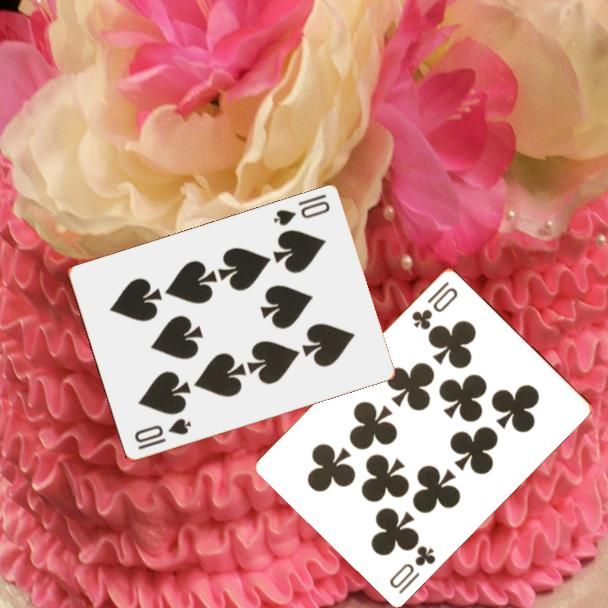c10: (386, 541, 439, 597), (408, 277, 461, 332)
s10: (131, 415, 194, 453), (270, 191, 333, 229)
